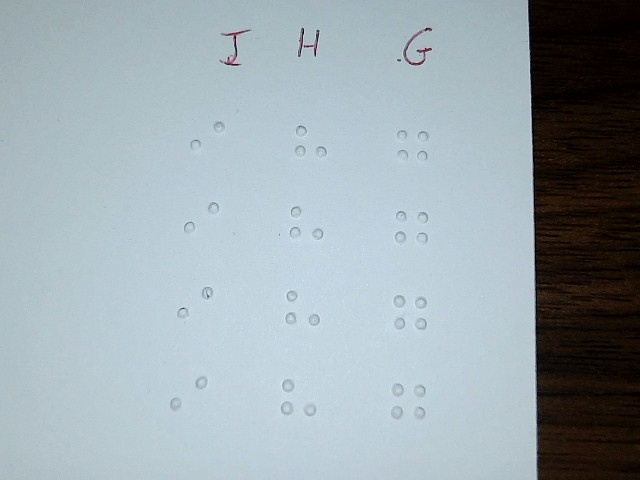G: (393, 120, 431, 180), (392, 200, 430, 260), (392, 286, 430, 346)
H: (292, 116, 330, 176), (287, 196, 325, 256), (284, 280, 322, 340)
I: (175, 276, 215, 339), (188, 111, 226, 171), (182, 192, 220, 252)
